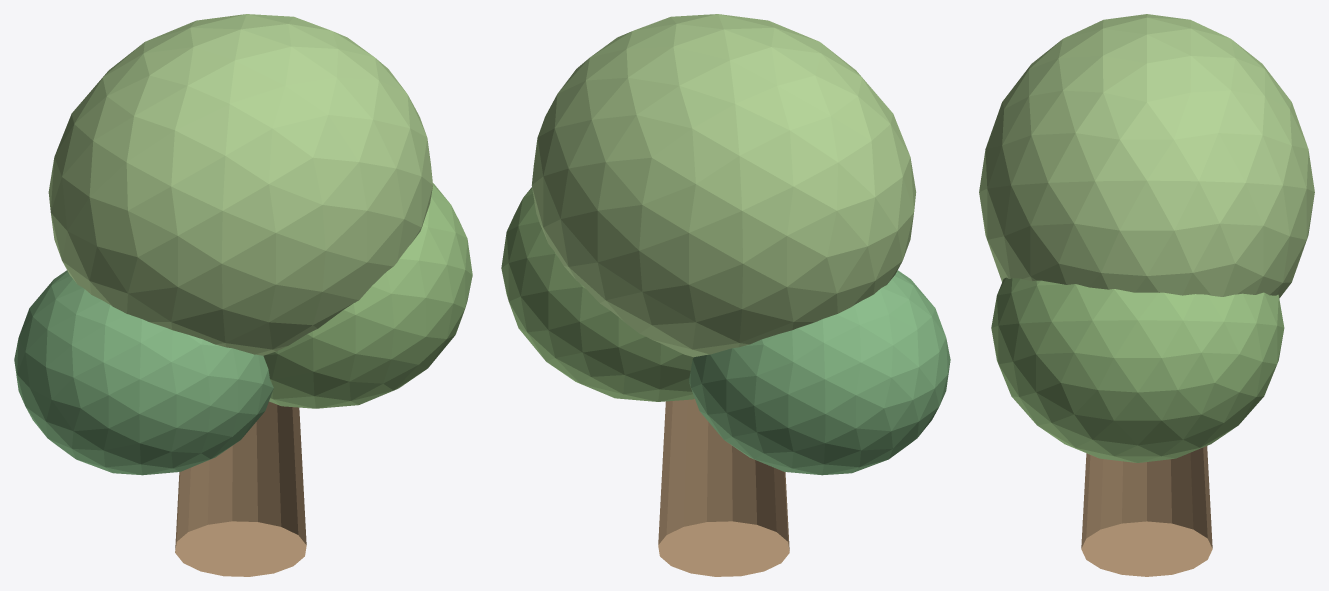
File: tree_sapling.glb
The picture shows the model from 3 angles, left to right: view 1: azimuth 30°, elevation 25°; view 2: azimuth 150°, elevation 25°; view 3: azimuth 270°, elevation 25°; orthographic projection.
Visible parts, largest first — view 1: tree_sapling_03_crown, tree_sapling_01_crown, tree_sapling_02_crown, tree_sapling_00_trunk; view 2: tree_sapling_03_crown, tree_sapling_01_crown, tree_sapling_00_trunk, tree_sapling_02_crown; view 3: tree_sapling_03_crown, tree_sapling_02_crown, tree_sapling_00_trunk.
Boxes of the visible parts, bbox=[...] form: tree_sapling_03_crown: bbox=[48, 14, 432, 355]; tree_sapling_01_crown: bbox=[14, 270, 273, 475]; tree_sapling_02_crown: bbox=[263, 183, 472, 408]; tree_sapling_00_trunk: bbox=[175, 401, 306, 576]; tree_sapling_03_crown: bbox=[531, 14, 916, 357]; tree_sapling_01_crown: bbox=[689, 270, 950, 475]; tree_sapling_00_trunk: bbox=[658, 398, 789, 576]; tree_sapling_02_crown: bbox=[501, 187, 694, 401]; tree_sapling_03_crown: bbox=[979, 14, 1314, 298]; tree_sapling_02_crown: bbox=[991, 277, 1284, 462]; tree_sapling_00_trunk: bbox=[1081, 446, 1212, 576].
Size of the model in its own units: 1.57 by 1.86 by 1.1.
